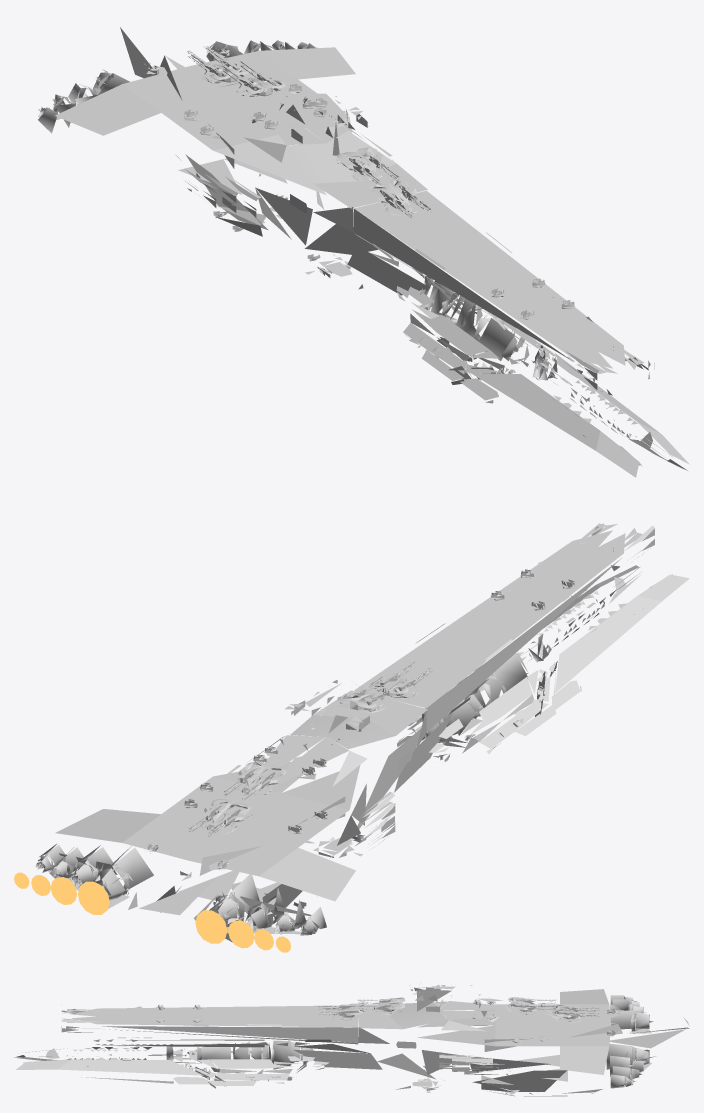
The model's file is dreadnought_game_lod.glb.
The picture shows the model from 3 angles, top to bottom: view 1: azimuth 30°, elevation 25°; view 2: azimuth 150°, elevation 25°; view 3: azimuth 270°, elevation 25°; orthographic projection. The views are drawn at different scales.
Visible parts, largest first — view 1: dreadnought_game_lod; view 2: dreadnought_game_lod; view 3: dreadnought_game_lod.
Boxes of the visible parts, x1,y1,x2,y2 form: dreadnought_game_lod: [38, 27, 689, 477]; dreadnought_game_lod: [14, 523, 689, 952]; dreadnought_game_lod: [14, 982, 689, 1096].
Bounding box in the file's own units: 140 × 72.65 × 425.
